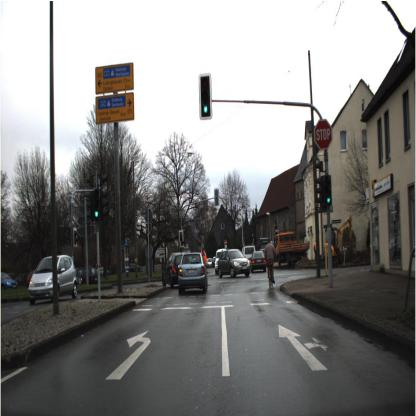other: (313, 112, 335, 156)
